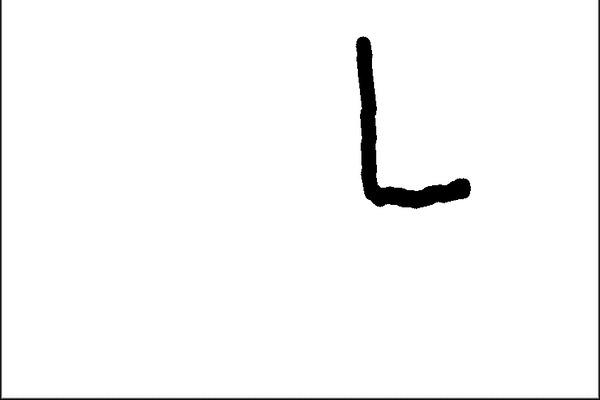L: (348, 25, 477, 218)
